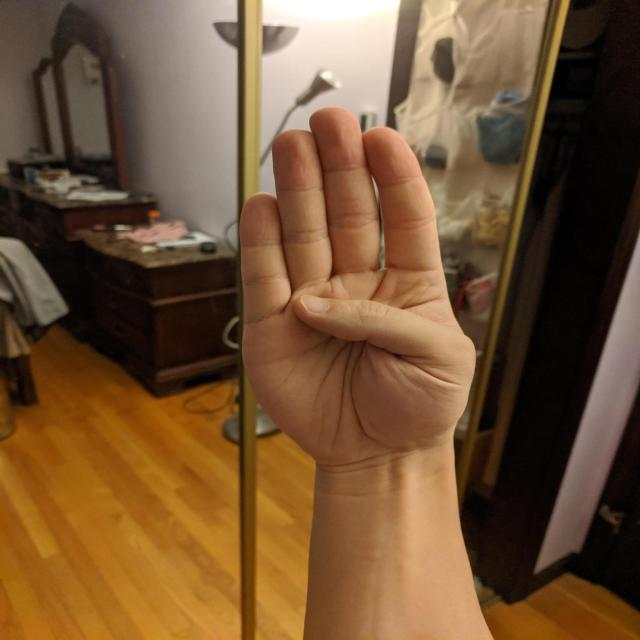B: (232, 102, 480, 472)
